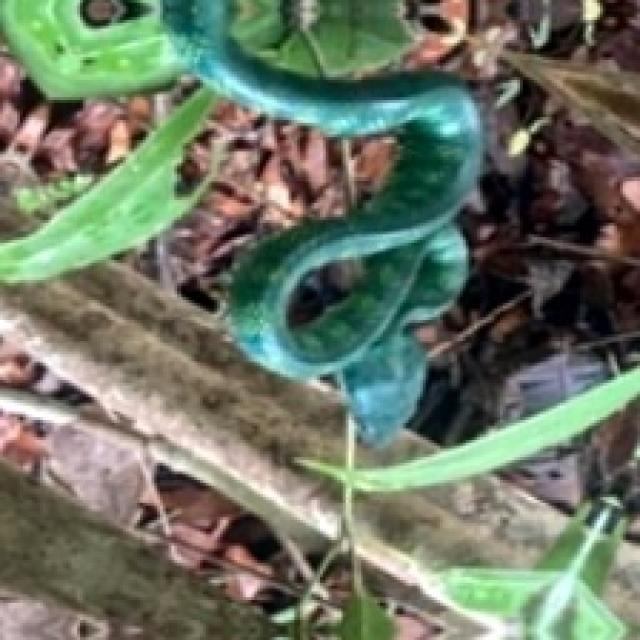north ph temple pitviper: (0, 0, 480, 443)
